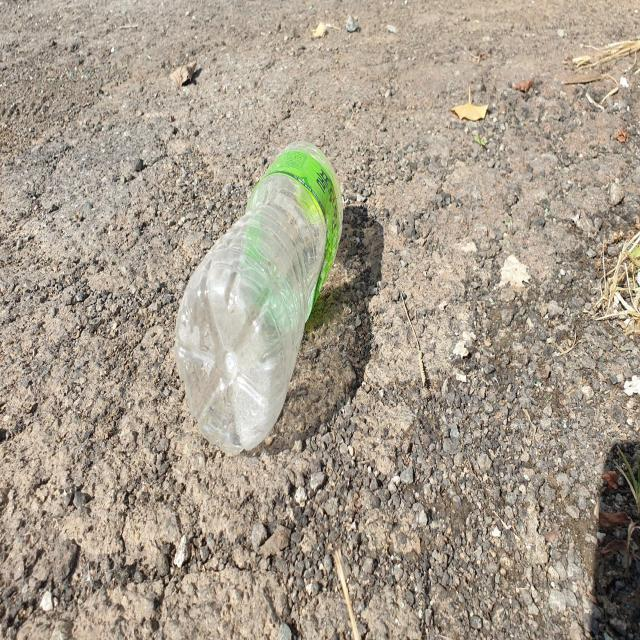plastic: (174, 140, 343, 454)
